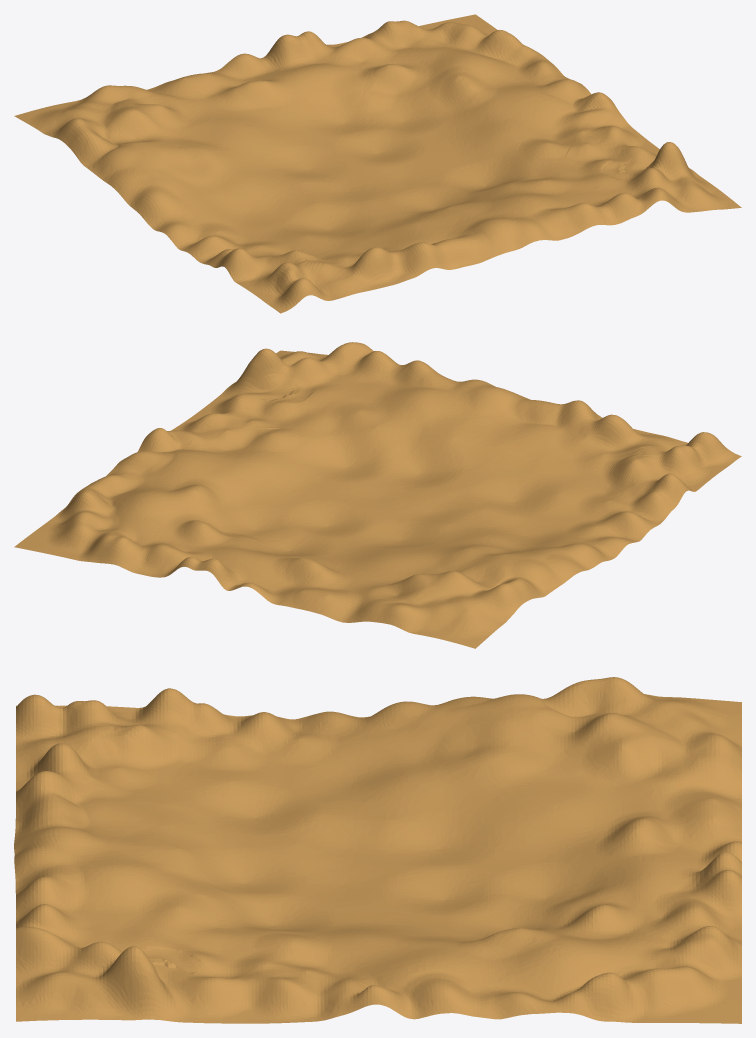
File: UnderWaterLand3_UV.fbx
3 views of the same model, one above another, from view 1: azimuth 30°, elevation 25°; view 2: azimuth 150°, elevation 25°; view 3: azimuth 270°, elevation 25° (orthographic). The views are drawn at different scales.
Parts seen in each view (by area): view 1: Plane001; view 2: Plane001; view 3: Plane001.
Boxes of the visible parts, <box> form: Plane001: <box>14,14,741,313</box>; Plane001: <box>14,342,741,648</box>; Plane001: <box>14,677,741,1023</box>.
Bounding box in the file's own units: 10024 × 1062 × 10026.
